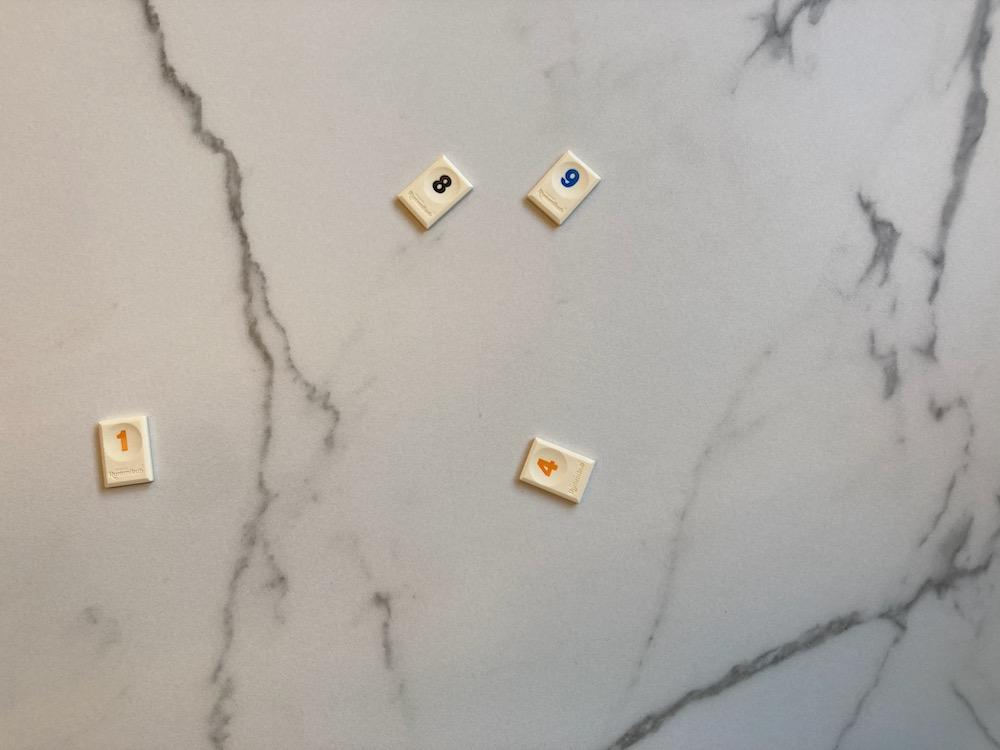black_8: (398, 156, 473, 229)
blue_9: (527, 150, 600, 225)
orange_1: (98, 417, 154, 488)
orange_4: (520, 438, 594, 502)
